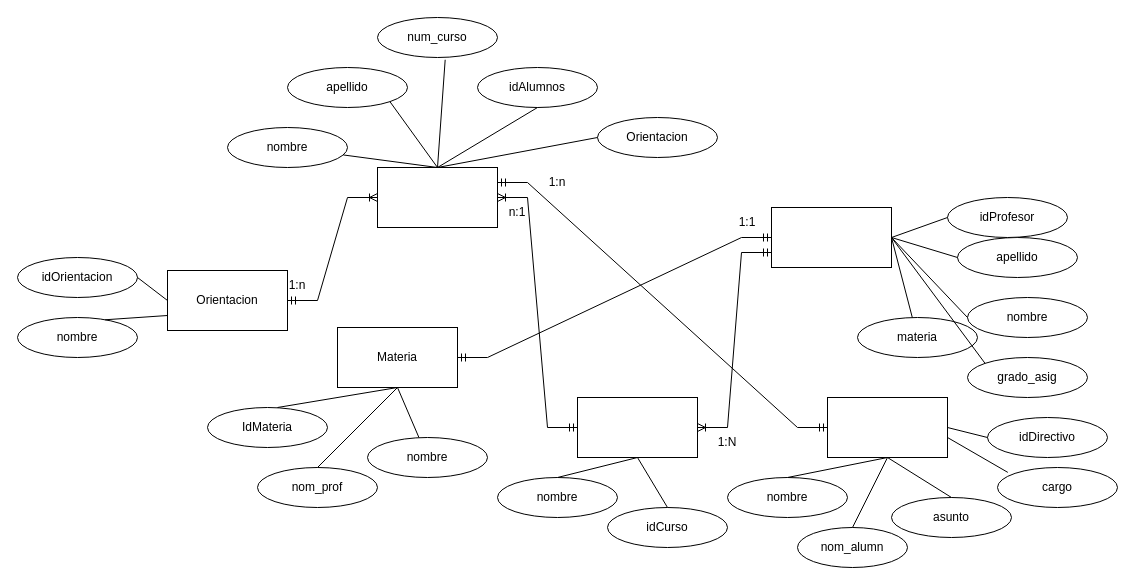
This 1135x585 diagram has some shape labels left out. The centre of each missing label's shape, as x and y in pixels:
Alumnos: (437,197)
Curso: (637,427)
Directivo: (887,427)
Profesor: (831,237)
